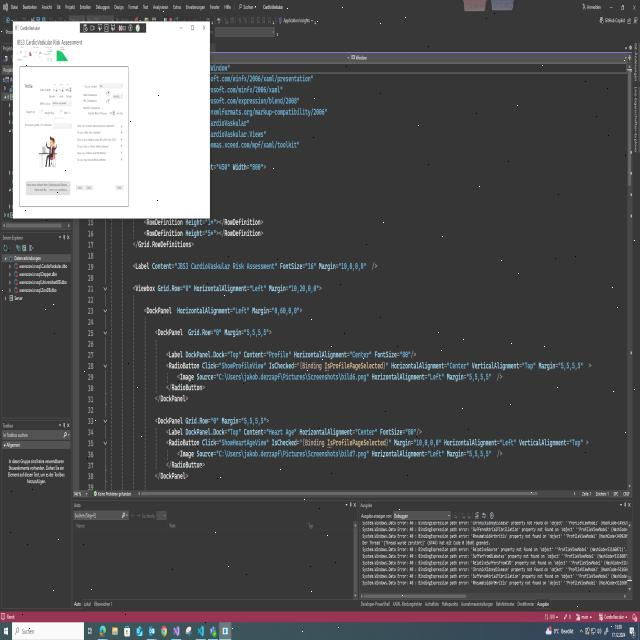button: (48, 187, 68, 193), (188, 22, 198, 34), (200, 22, 210, 31), (178, 22, 184, 32), (84, 184, 93, 190), (115, 185, 124, 190), (76, 185, 84, 190)
checkbox: (120, 157, 124, 162), (120, 143, 123, 148), (120, 130, 123, 134), (120, 124, 123, 128), (120, 137, 123, 141), (120, 150, 123, 154), (68, 188, 70, 192), (68, 183, 70, 187)
dropdownMenu: (98, 82, 124, 89), (53, 122, 73, 130), (52, 100, 72, 107), (112, 93, 123, 100)
input: (12, 622, 84, 640)
label: (16, 37, 84, 47), (26, 181, 68, 187), (78, 137, 118, 143), (76, 123, 115, 128), (76, 157, 108, 163), (24, 122, 53, 128), (76, 144, 110, 149), (76, 151, 108, 156), (76, 129, 102, 135), (86, 111, 108, 116), (82, 106, 103, 111), (81, 98, 98, 104), (82, 92, 98, 98), (83, 84, 98, 90), (23, 83, 34, 89), (38, 101, 50, 106), (53, 116, 65, 121), (116, 110, 124, 117), (34, 188, 48, 192), (44, 111, 55, 116), (39, 88, 51, 92), (63, 110, 71, 116), (26, 110, 36, 114), (36, 116, 44, 121), (66, 94, 72, 99), (58, 82, 64, 87), (48, 95, 56, 98), (65, 82, 70, 86), (58, 95, 64, 98), (53, 82, 57, 86)
radio: (56, 94, 59, 98), (64, 94, 66, 98)
upDown: (99, 98, 110, 105), (99, 90, 110, 96), (36, 108, 43, 115), (64, 87, 72, 93), (55, 109, 63, 115), (58, 86, 64, 93), (108, 110, 115, 116), (52, 87, 58, 93)
